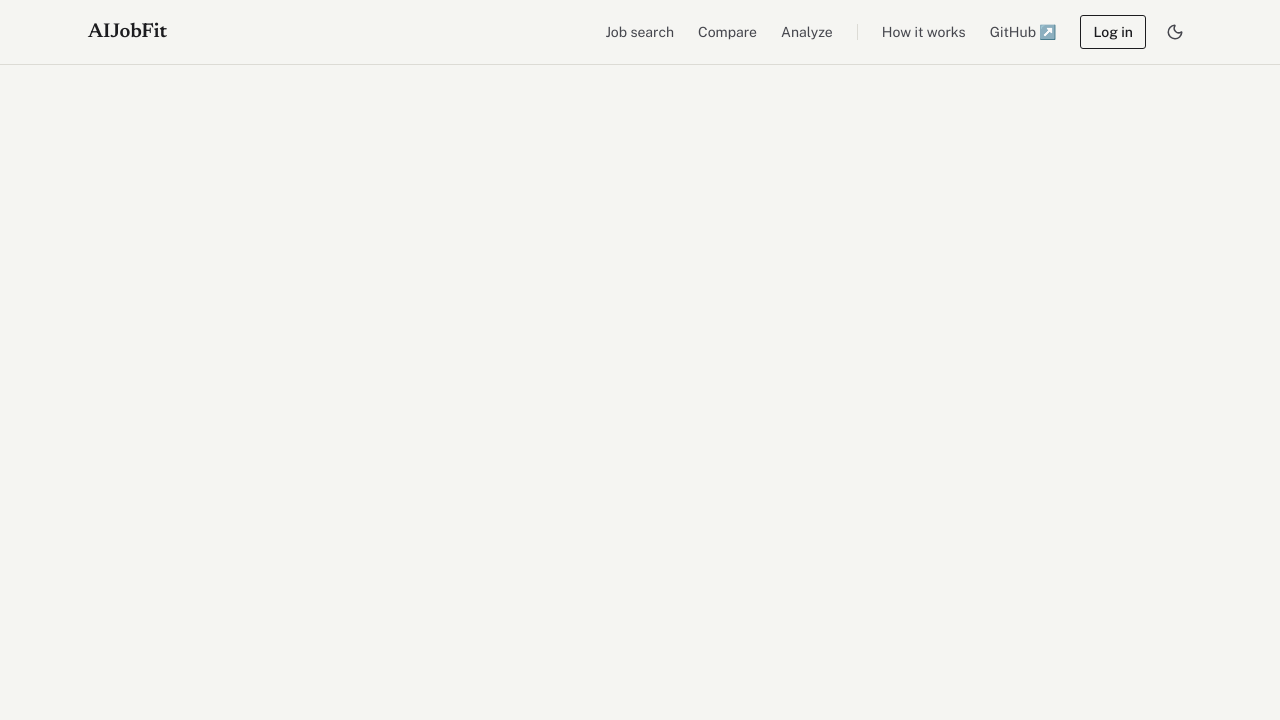
logged out shows Log in and opens the modal
The width and height of the screenshot is (1280, 720).
Click the button "Log in". click: (1113, 32)
box: [1080,15,1146,49]
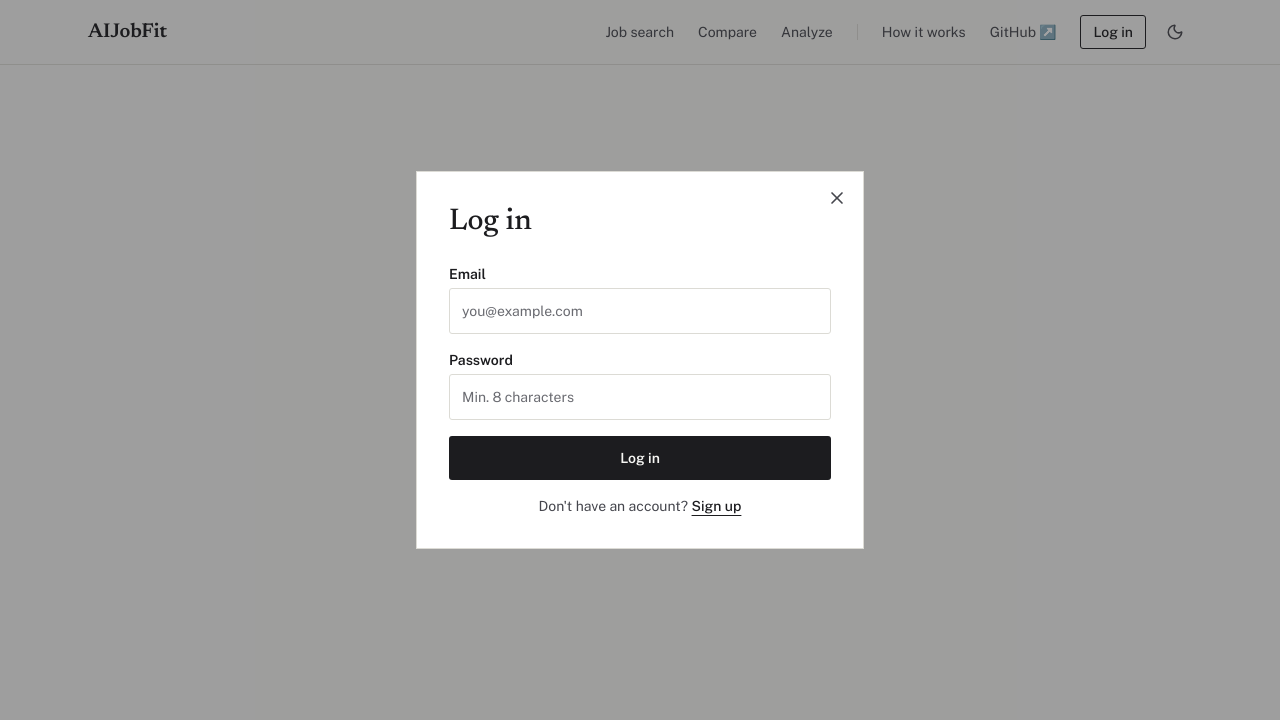
Result: the heading "Log in" is shown at [449,207,532,237]
